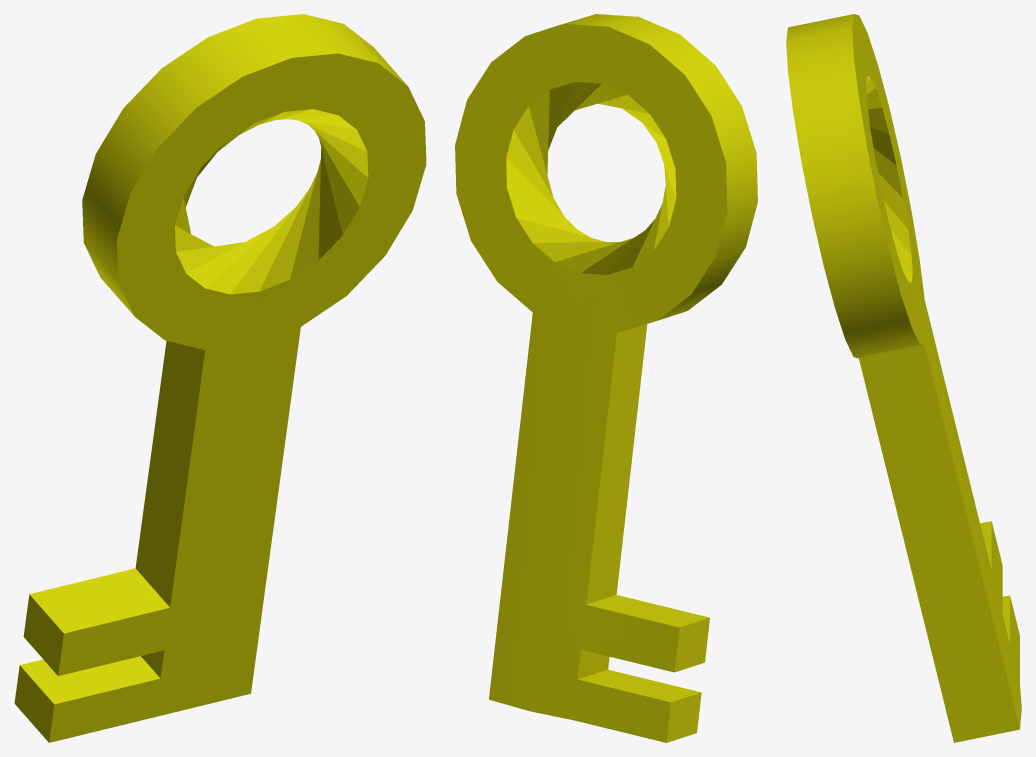
Rendered from KeyCollectible.fbx.
The picture shows the model from 3 angles, left to right: view 1: azimuth 30°, elevation 25°; view 2: azimuth 150°, elevation 25°; view 3: azimuth 270°, elevation 25°; orthographic projection. The views are drawn at different scales.
Visible parts, largest first — view 1: pCylinder1; view 2: pCylinder1; view 3: pCylinder1.
Part boxes in pixels (x1,y1,x2,y2): pCylinder1: [14, 14, 426, 742]; pCylinder1: [455, 14, 757, 742]; pCylinder1: [786, 14, 1021, 742].
Size of the model in its own units: 1 by 2.24 by 0.6917.
